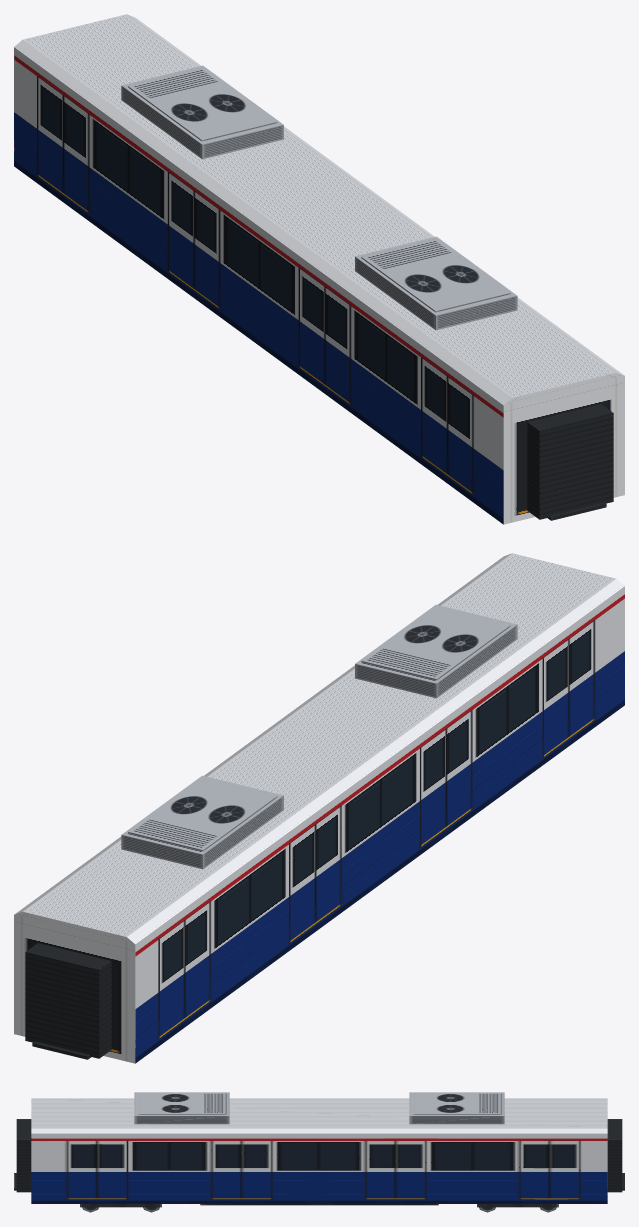
Rendered from BTS_Train_Middle.obj.
3 renders of one model, top to bottom at view 1: azimuth 30°, elevation 25°; view 2: azimuth 150°, elevation 25°; view 3: azimuth 270°, elevation 25°, orthographic. The views are drawn at different scales.
Visible parts, largest first — view 1: BTS_Train_Middle; view 2: BTS_Train_Middle; view 3: BTS_Train_Middle.
Boxes of the visible parts, x1=… form: BTS_Train_Middle: x1=14, y1=14, x2=624, y2=524; BTS_Train_Middle: x1=14, y1=553, x2=624, y2=1063; BTS_Train_Middle: x1=14, y1=1092, x2=624, y2=1212.
Bounding box in the file's own units: 3.12 × 4.19 × 23.1.
1 material, 1 textured.
